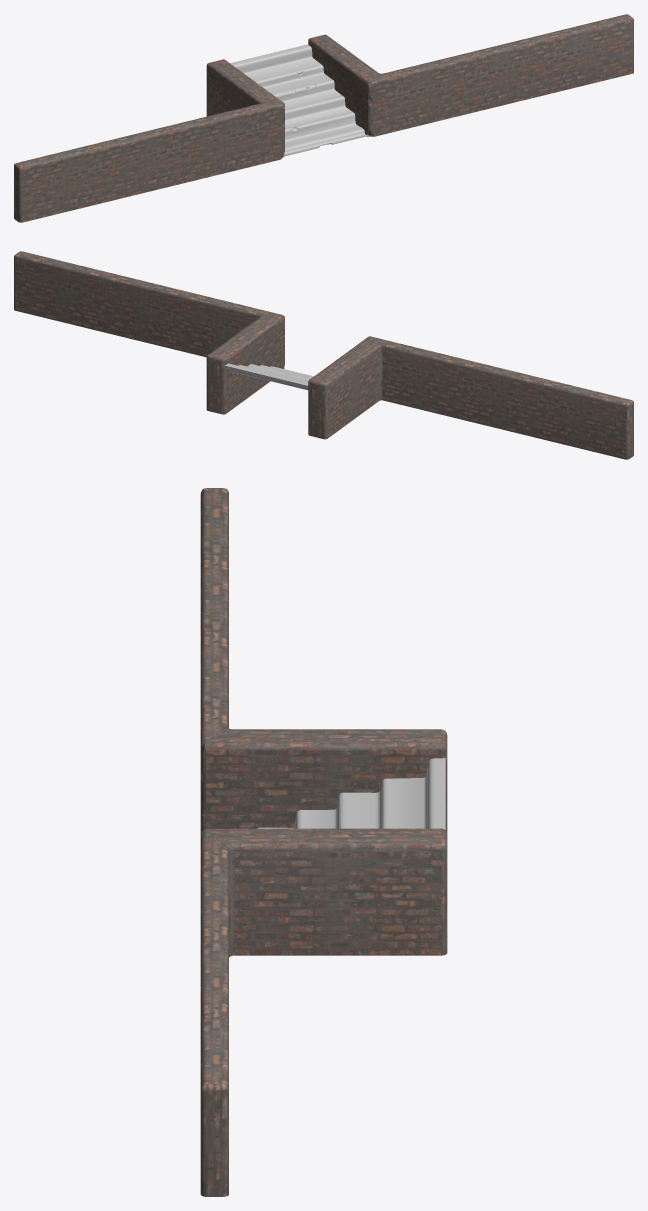
File: Wall.fbx
3 renders of one model, top to bottom at view 1: azimuth 30°, elevation 25°; view 2: azimuth 150°, elevation 25°; view 3: azimuth 270°, elevation 25°, orthographic. The views are drawn at different scales.
Visible parts, largest first — view 1: 01, 02; view 2: 01, 02; view 3: 01, 02.
Boxes of the visible parts, x1,y1,x2,y2 form: 01: [14, 14, 633, 222]; 02: [230, 44, 368, 156]; 01: [14, 251, 633, 459]; 02: [224, 363, 313, 390]; 01: [200, 488, 447, 1196]; 02: [257, 757, 445, 829].
Bounding box in the file's own units: 720 × 61.73 × 125.
2 materials, 1 textured.
